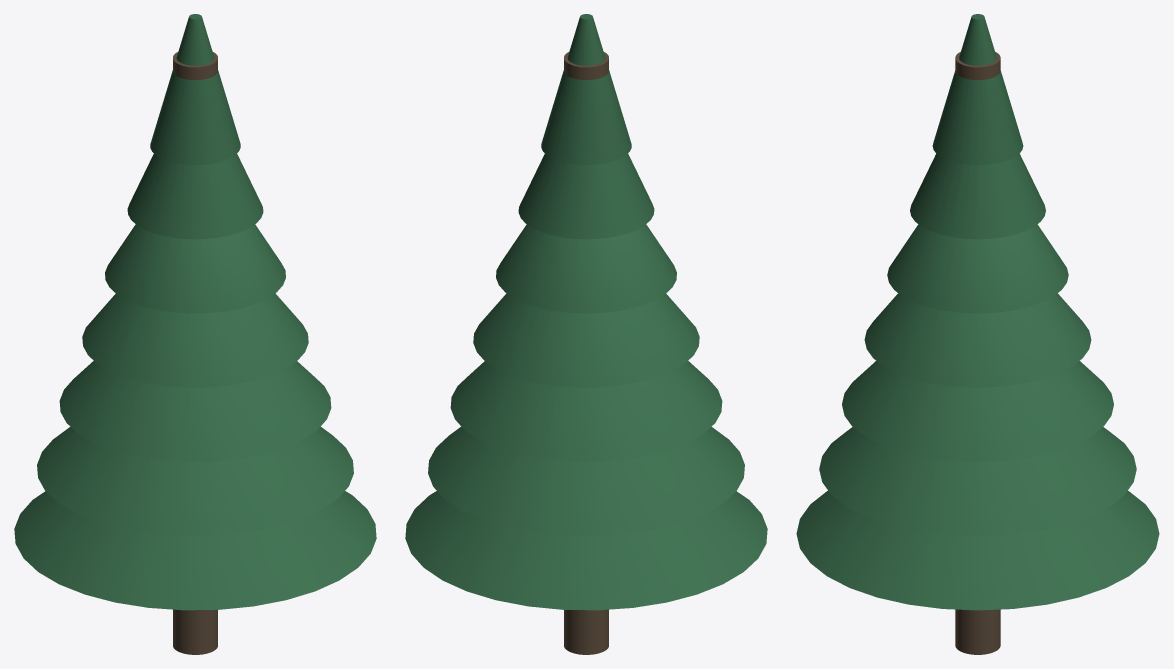
The model's file is The Pine Tree.fbx.
The picture shows the model from 3 angles, left to right: view 1: azimuth 30°, elevation 25°; view 2: azimuth 150°, elevation 25°; view 3: azimuth 270°, elevation 25°; orthographic projection.
Visible parts, largest first — view 1: Pine_Tier_1, Pine_Tier_2, Pine_Tier_3, Pine_Tier_4, Pine_Tier_5, Pine_Tier_6, Pine_Tier_7, Pine_Trunk; view 2: Pine_Tier_1, Pine_Tier_2, Pine_Tier_3, Pine_Tier_4, Pine_Tier_5, Pine_Tier_6, Pine_Tier_7, Pine_Trunk; view 3: Pine_Tier_1, Pine_Tier_2, Pine_Tier_3, Pine_Tier_4, Pine_Tier_5, Pine_Tier_6, Pine_Tier_7, Pine_Trunk.
Part boxes in pixels (box(x1,y1,x2,y2)): Pine_Tier_1: box(14, 491, 376, 610); Pine_Tier_2: box(37, 426, 353, 535); Pine_Tier_3: box(59, 361, 331, 461); Pine_Tier_4: box(82, 293, 308, 387); Pine_Tier_5: box(105, 224, 285, 313); Pine_Tier_6: box(127, 154, 263, 239); Pine_Tier_7: box(150, 14, 240, 164); Pine_Trunk: box(173, 52, 217, 654); Pine_Tier_1: box(405, 491, 767, 610); Pine_Tier_2: box(428, 426, 744, 535); Pine_Tier_3: box(450, 361, 722, 461); Pine_Tier_4: box(473, 293, 699, 387); Pine_Tier_5: box(496, 224, 676, 313); Pine_Tier_6: box(518, 154, 654, 239); Pine_Tier_7: box(541, 14, 631, 164); Pine_Trunk: box(564, 52, 608, 654); Pine_Tier_1: box(796, 491, 1159, 610); Pine_Tier_2: box(819, 427, 1136, 536); Pine_Tier_3: box(842, 361, 1113, 461); Pine_Tier_4: box(864, 293, 1091, 387); Pine_Tier_5: box(887, 224, 1068, 313); Pine_Tier_6: box(910, 153, 1045, 239); Pine_Tier_7: box(932, 14, 1023, 164); Pine_Trunk: box(955, 52, 1000, 654).
Size of the model in its own units: 560 by 1070 by 560.
